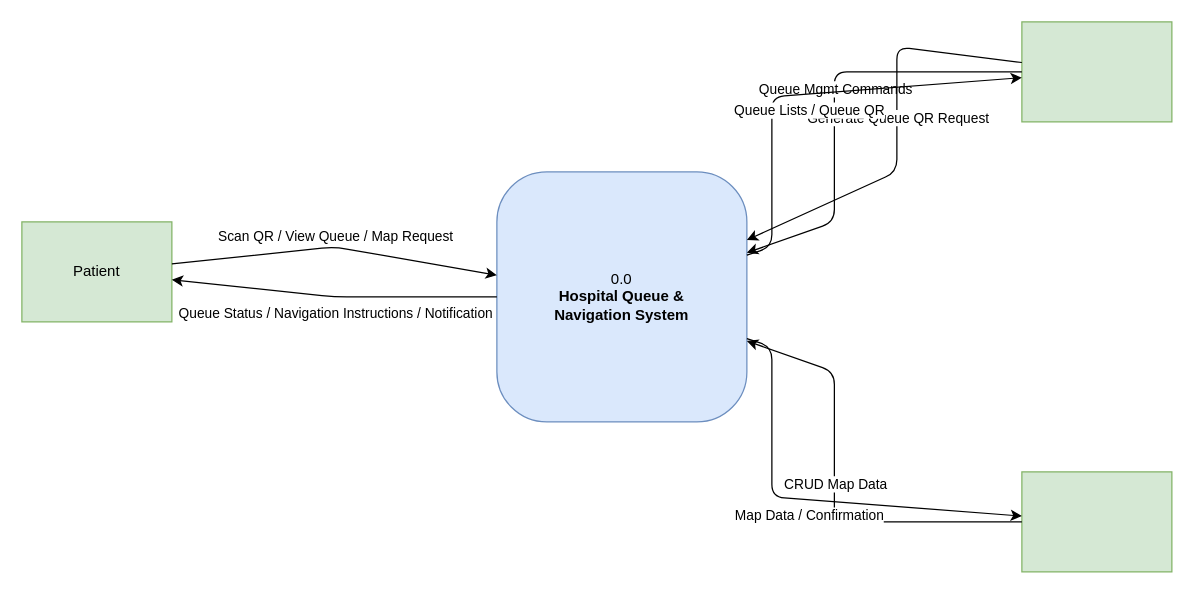
The diagram is 1194 pixels wide and 594 high, and some of its shapes have lost their labels. Here are the shapes that lost their labels. From the top down, the centre of each, then its label:
point 1096,71: Staff
point 1096,521: Admin
